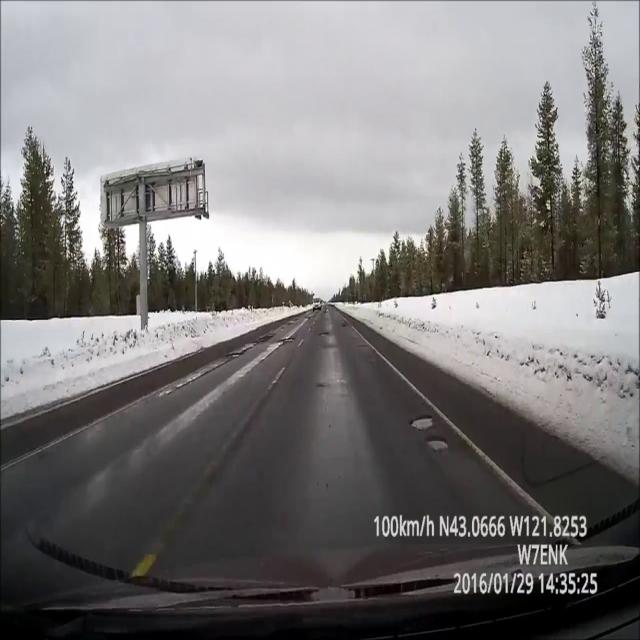Pothole: (405, 410, 438, 432), (425, 434, 454, 454), (256, 334, 273, 344), (279, 336, 295, 344), (226, 352, 242, 358), (316, 331, 328, 337), (342, 324, 346, 328)
